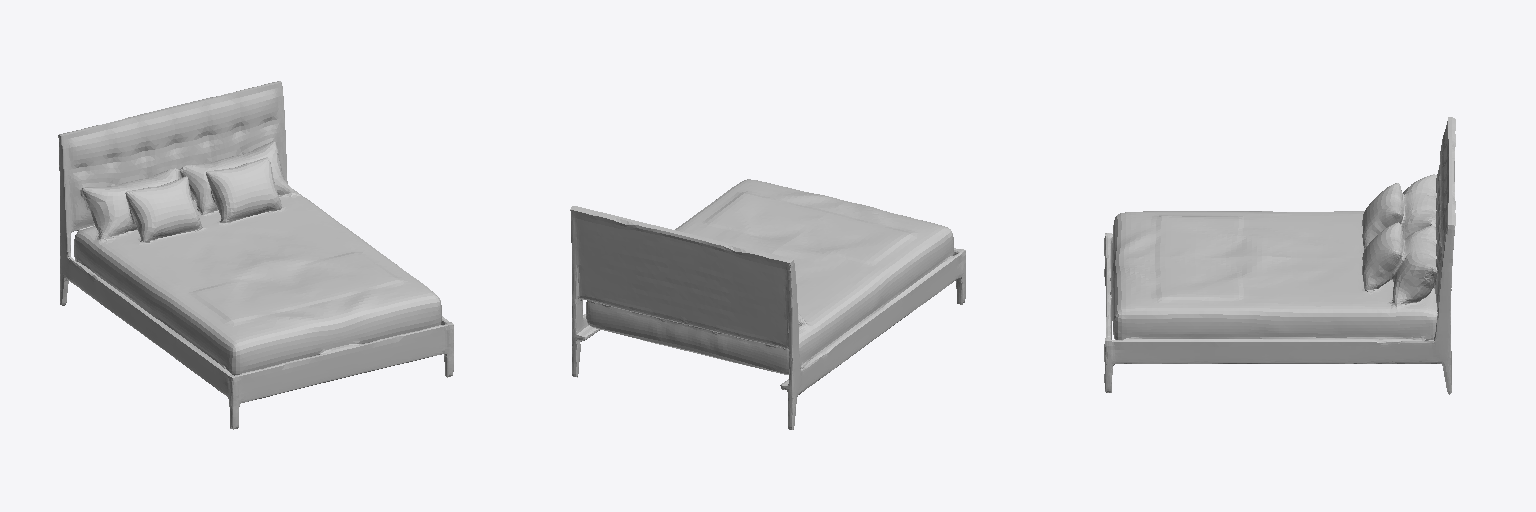
The model's file is twin size bed.obj.
The picture shows the model from 3 angles: view 1: azimuth 30°, elevation 25°; view 2: azimuth 150°, elevation 25°; view 3: azimuth 270°, elevation 25°; orthographic projection.
Visible parts, largest first — view 1: Mesh0; view 2: Mesh0; view 3: Mesh0.
Part boxes in pixels (x1,y1,x2,y2): Mesh0: (58, 81, 453, 429); Mesh0: (570, 179, 965, 429); Mesh0: (1104, 117, 1455, 394).
Size of the model in its own units: 1.47 by 1.08 by 2.